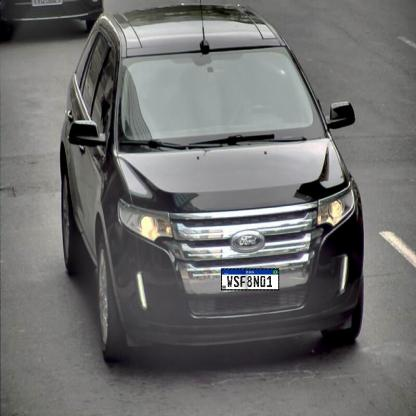PlacaM: (221, 268, 279, 290)
